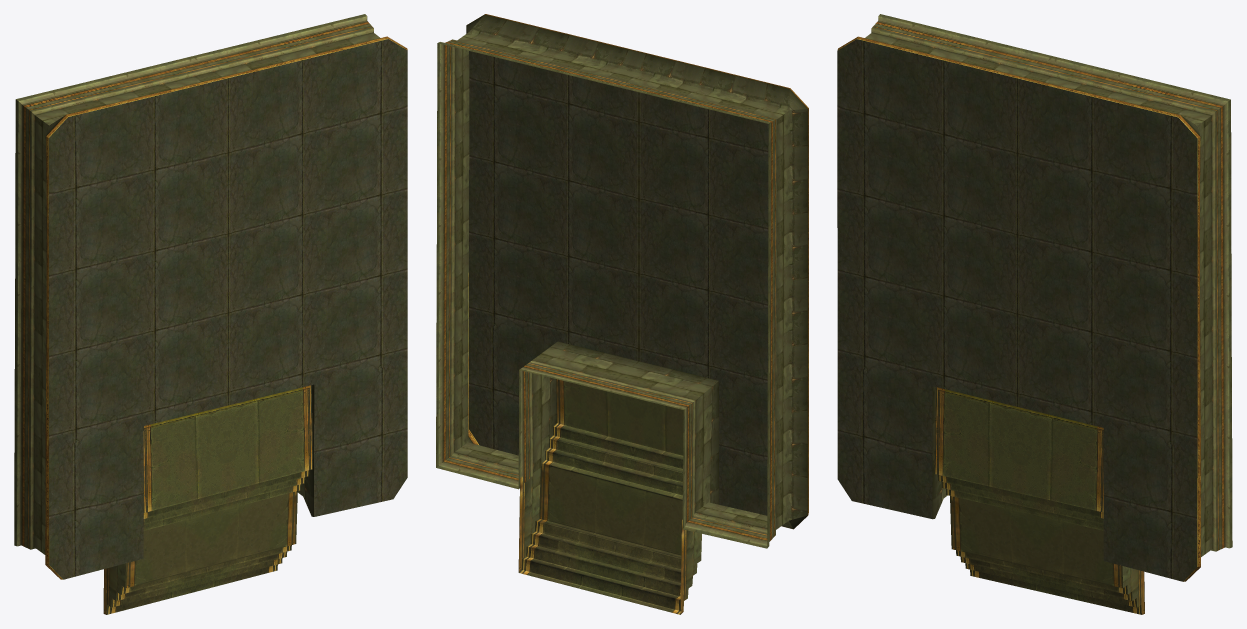
The model's file is juqing_fuben_237_jitan_02.obj.
3 views of the same model, side by side, from view 1: azimuth 30°, elevation 25°; view 2: azimuth 150°, elevation 25°; view 3: azimuth 330°, elevation 25° (orthographic). The views are drawn at different scales.
Visible parts, largest first — view 1: Box01; view 2: Box01; view 3: Box01.
Boxes of the visible parts, x1=… form: Box01: x1=14, y1=14, x2=407, y2=614; Box01: x1=436, y1=14, x2=808, y2=614; Box01: x1=837, y1=14, x2=1232, y2=614.
Size of the model in its own units: 611 by 881 by 119.
Materials: 3 (3 with a texture image).
